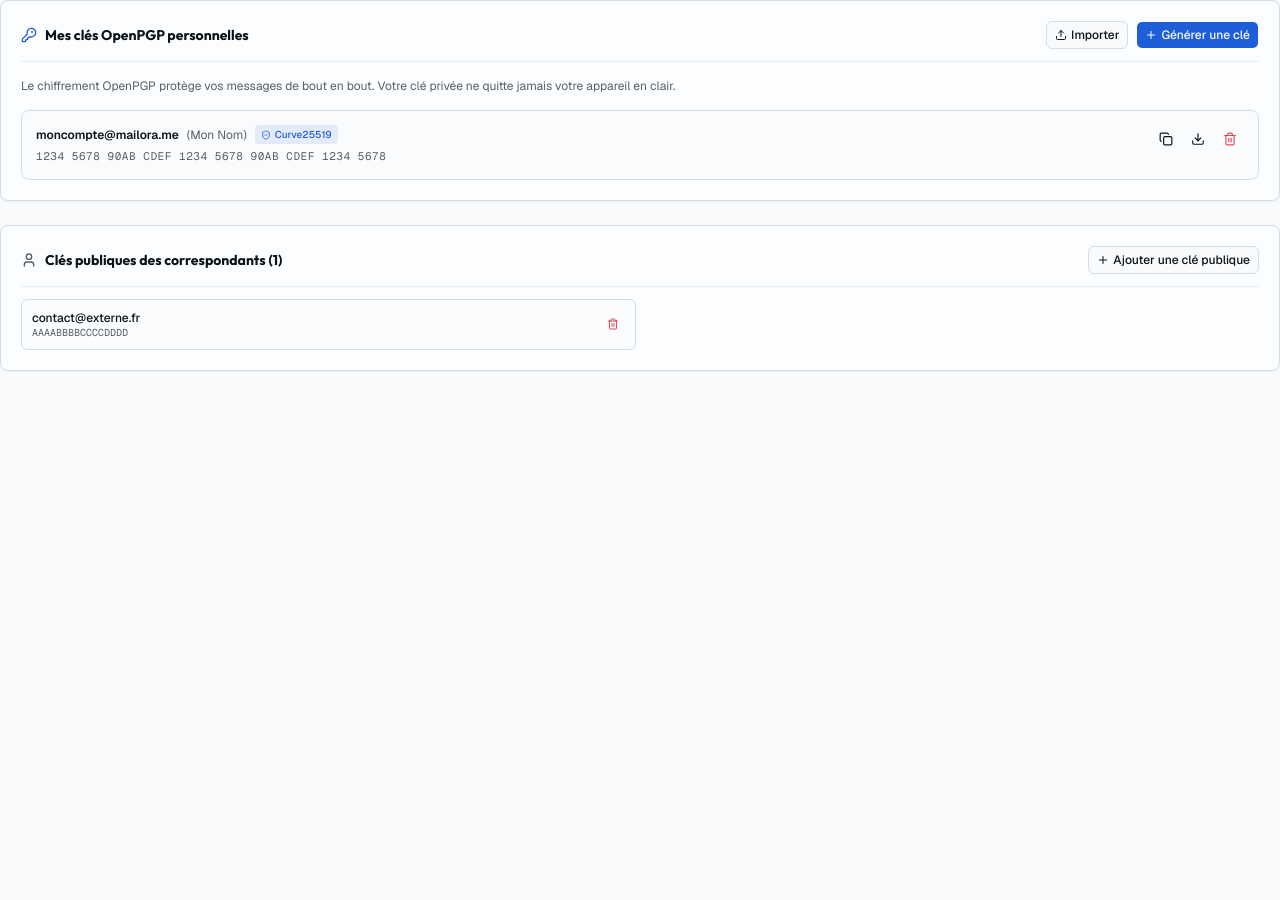
Test: PgpKeyManager › ouvre la modale de génération de clé au clic sur le bouton
What coordinates should you click on to do the following:
click the button "Générer une clé"
I would click on:
 (1198, 35)
Its box is [1136, 21, 1259, 49].
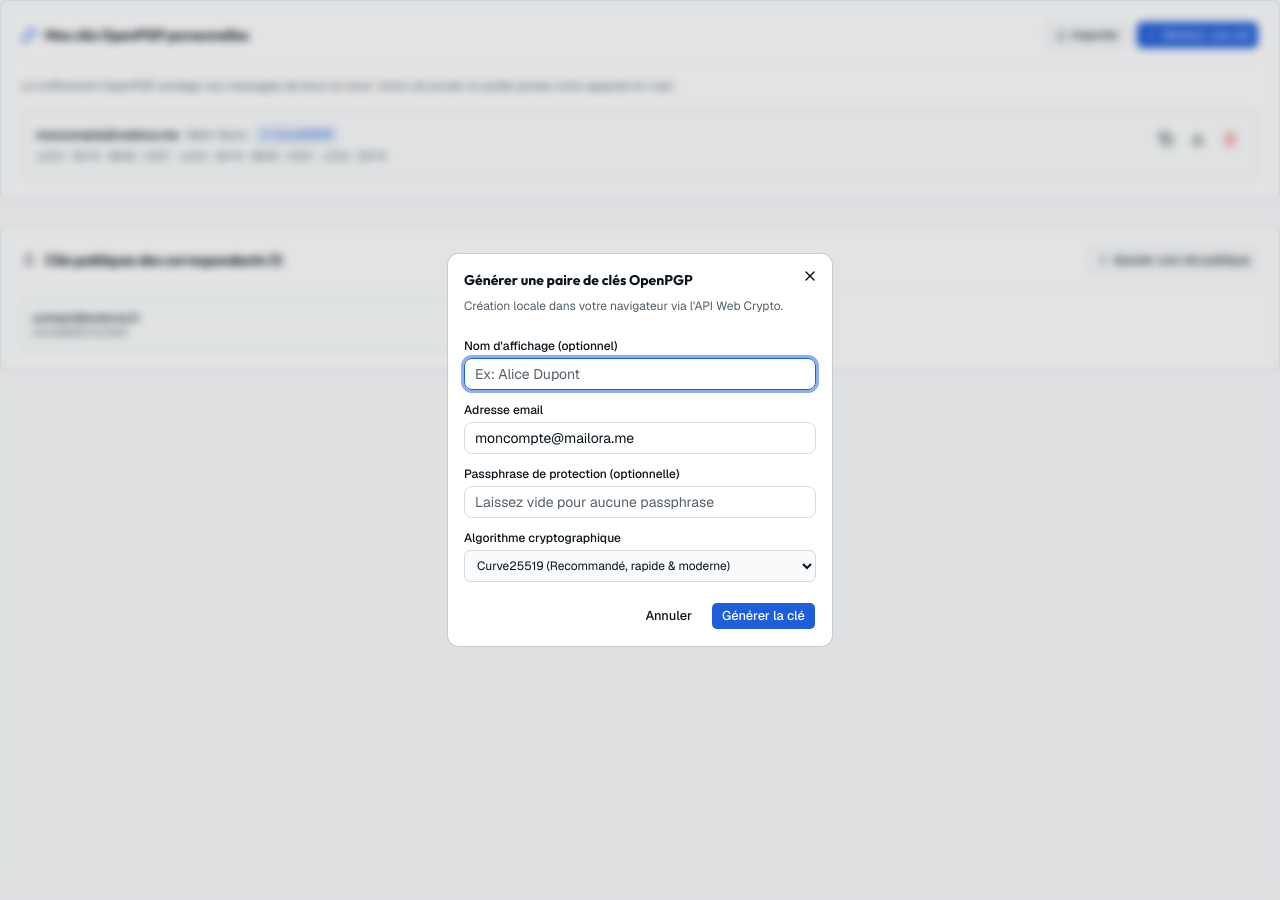
Expected: the heading "Générer une paire de clés OpenPGP" is shown, [464, 271, 693, 289]
Expected: the field labelled "Adresse email" is shown, [464, 422, 816, 454]
